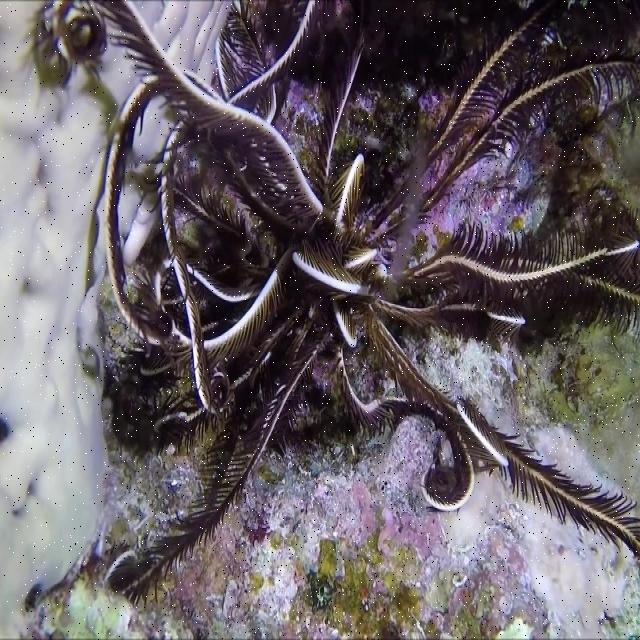aquatic plants: (32, 0, 639, 604)
